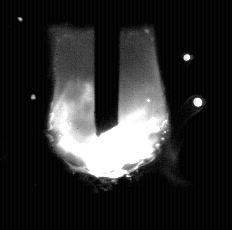arame: (95, 0, 120, 136)
poca: (47, 0, 172, 230)
